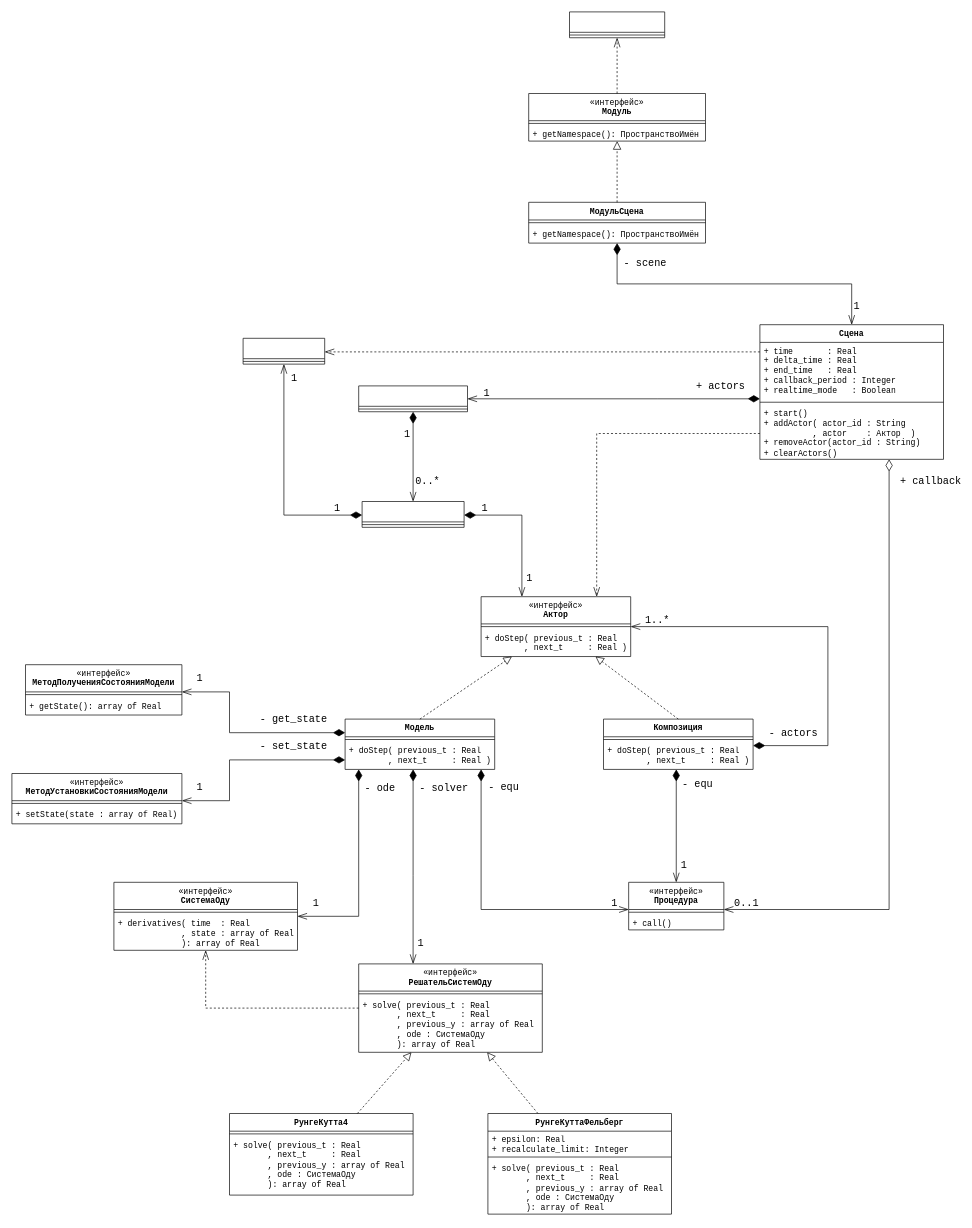
Image size: 972x1228. Some labels were removed from this diagram. Here are the shapes that lost their labels. From the top down, the centre of each, then its label:
At point 617,24: "ПространствоИмён".
At point 283,351: "String".
At point 413,398: "СловарьСтрокаАктор".
At point 412,514: "ЗаписьСтрокаАктор".
